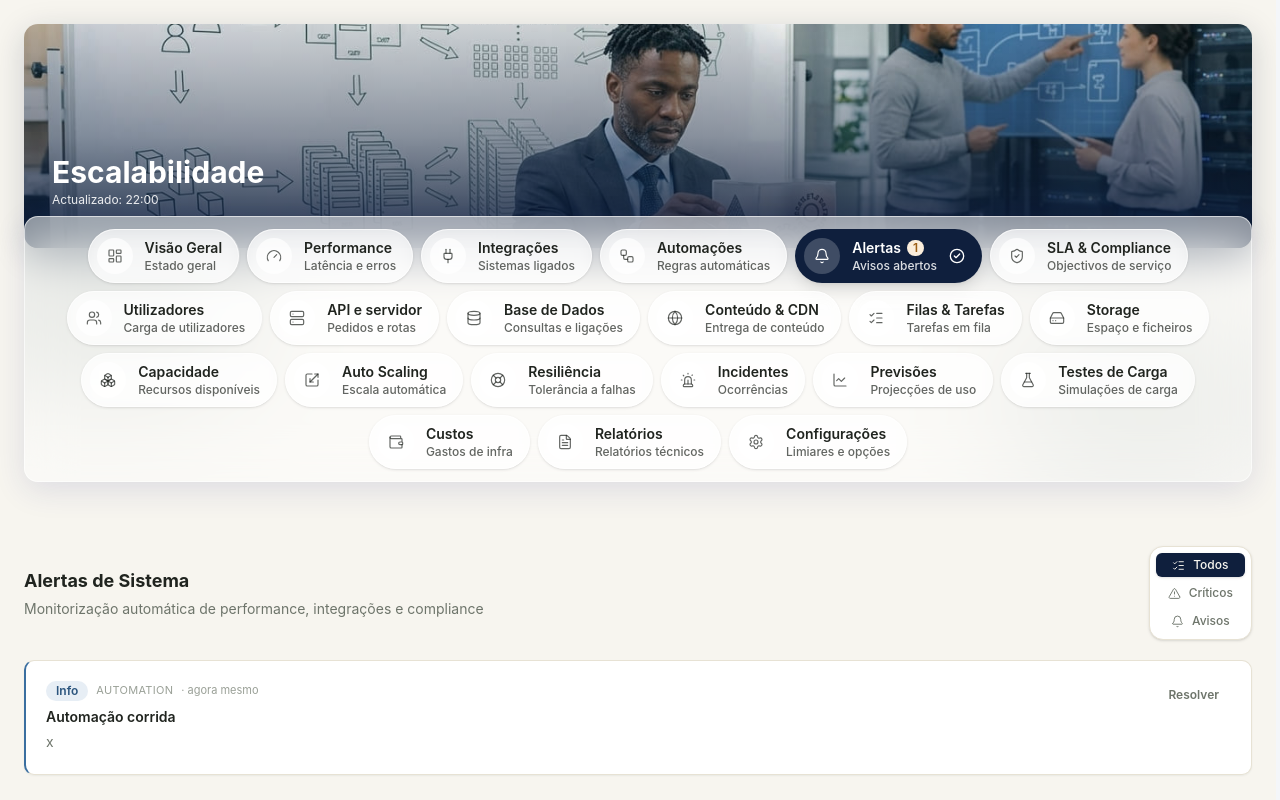
Scenario: ScalabilityDashboardView — alertas › estado vazio quando o filtro não tem correspondência
This screenshot has width=1280, height=800.
Step 1. Click the button "Críticos" → (1200,593), box [1156,581,1245,605]
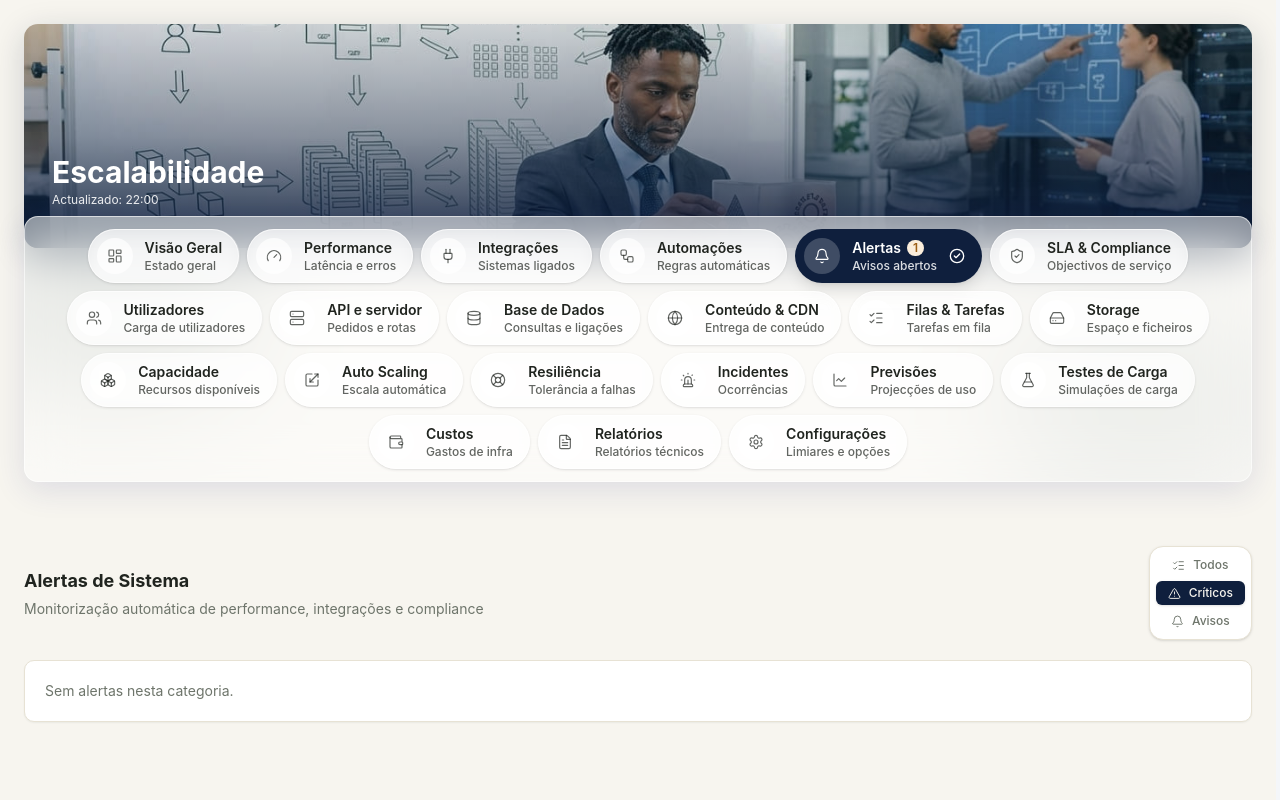
Check: the text "Sem alertas nesta categoria." is shown, box [45,682,234,699]
